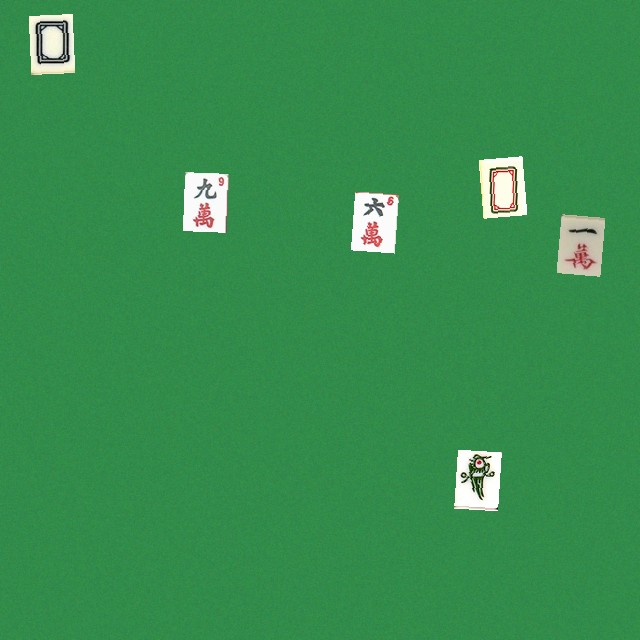tile: (478, 156, 522, 215), (350, 191, 394, 250), (182, 172, 226, 231), (454, 449, 498, 508), (556, 214, 600, 273), (28, 14, 72, 73)
